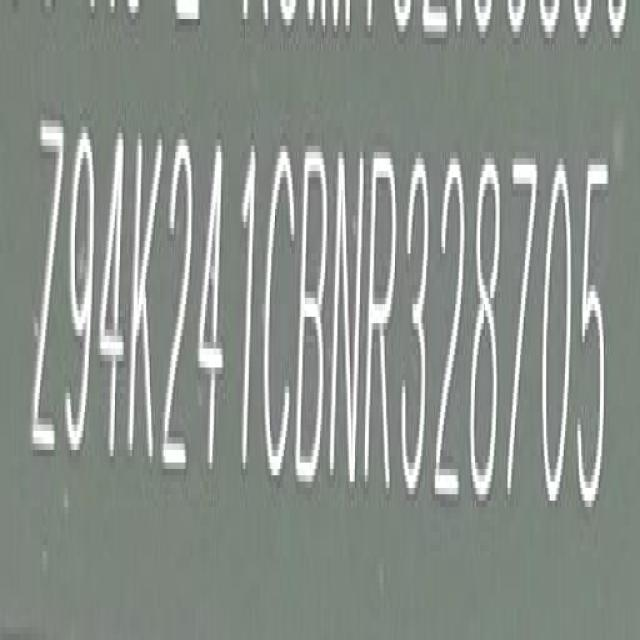0: (545, 155, 575, 515)
1: (234, 143, 256, 486)
2: (164, 133, 196, 479), (436, 149, 465, 508)
3: (401, 152, 433, 502)
4: (98, 128, 127, 469), (201, 138, 229, 483)
5: (580, 150, 612, 514)
7: (508, 146, 541, 506)
8: (469, 154, 500, 505)
9: (66, 122, 95, 468)
B: (298, 145, 330, 490)
C: (262, 145, 296, 484)
K: (131, 130, 163, 476)
N: (330, 144, 364, 493)
R: (366, 146, 398, 492)
Z: (32, 120, 66, 469)
